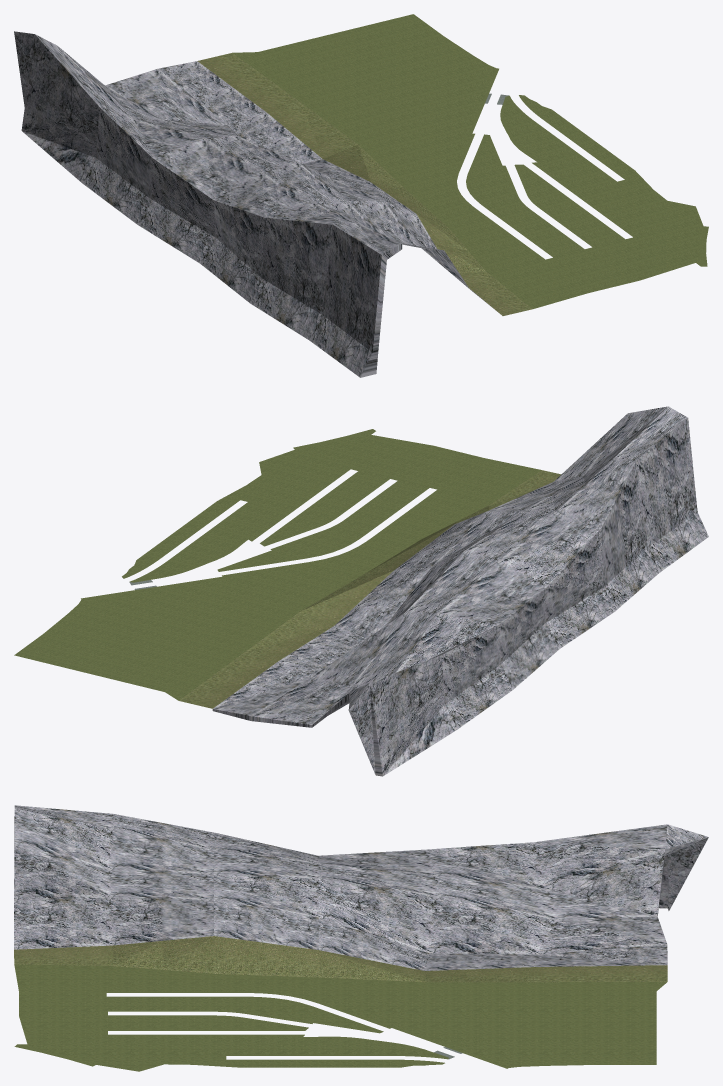
Rendered from vgseedge01.obj.
3 views of the same model, one above another, from view 1: azimuth 30°, elevation 25°; view 2: azimuth 150°, elevation 25°; view 3: azimuth 270°, elevation 25° (orthographic). The views are drawn at different scales.
Visible parts, largest first — view 1: vgsEedge01; view 2: vgsEedge01; view 3: vgsEedge01.
Part boxes in pixels (bbox=[...]): vgsEedge01: bbox=[14, 14, 708, 377]; vgsEedge01: bbox=[14, 406, 708, 776]; vgsEedge01: bbox=[14, 805, 708, 1071].
Bounding box in the file's own units: 158 × 45.76 × 240.
6 materials, 6 textured.
